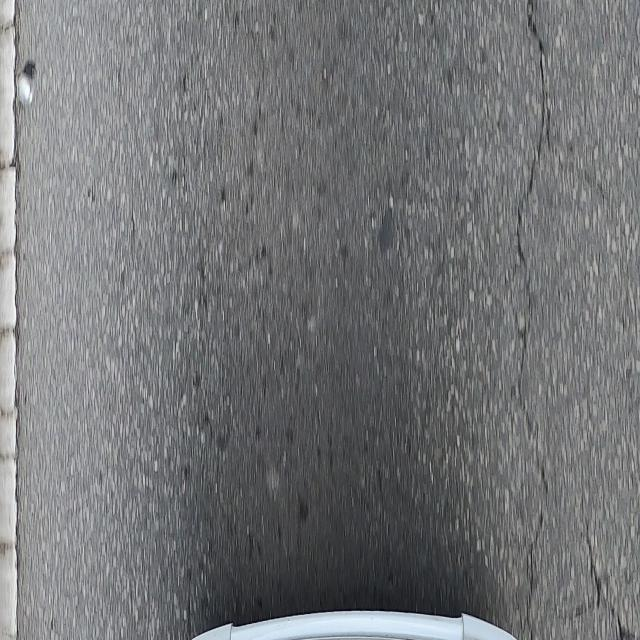Retak-Memanjang: (512, 0, 552, 640), (585, 524, 635, 639)
